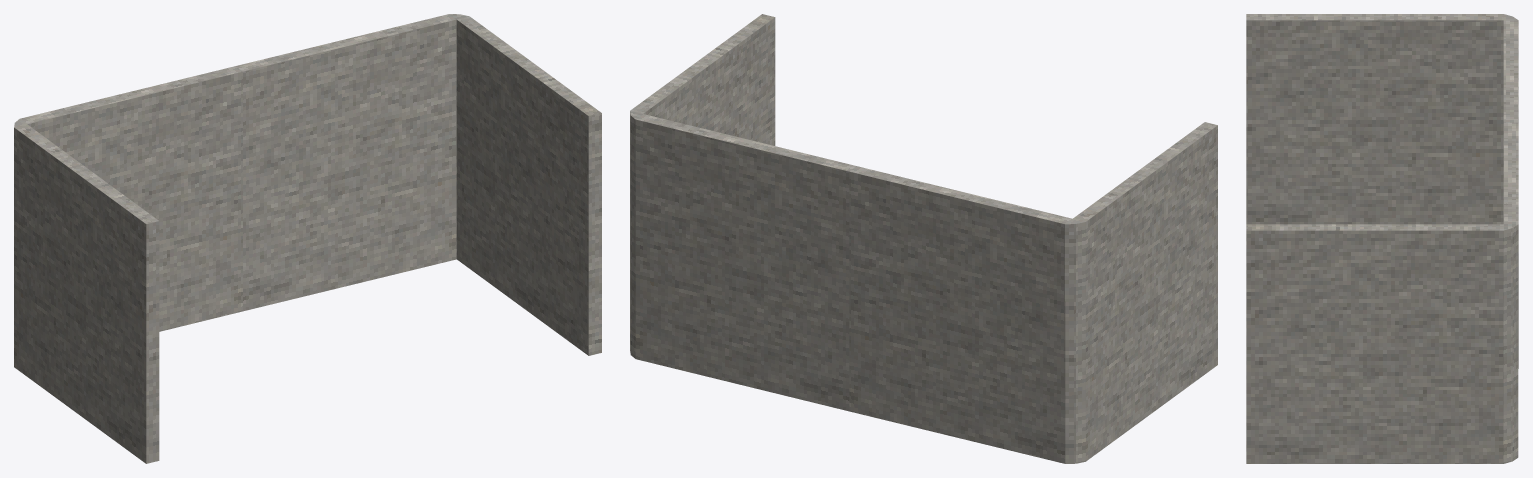
The model's file is divider_full_c.glb.
3 views of the same model, side by side, from view 1: azimuth 30°, elevation 25°; view 2: azimuth 150°, elevation 25°; view 3: azimuth 270°, elevation 25° (orthographic). The views are drawn at different scales.
Visible parts, largest first — view 1: divider_full_c; view 2: divider_full_c; view 3: divider_full_c.
Boxes of the visible parts, box(x1,y1,x2,y2) form: divider_full_c: box(14, 14, 601, 463); divider_full_c: box(630, 14, 1217, 463); divider_full_c: box(1246, 14, 1518, 463).
Bounding box in the file's own units: 2.99 × 1.5 × 1.59.
Materials: 1 (1 with a texture image).
